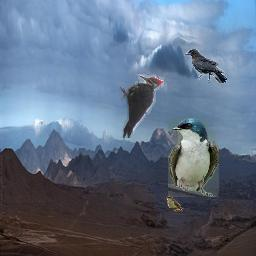Crow: (184, 49, 227, 83)
Cuckoo: (164, 195, 184, 212)
Swallow: (168, 117, 219, 197)
Woodpecker: (119, 74, 164, 138)
